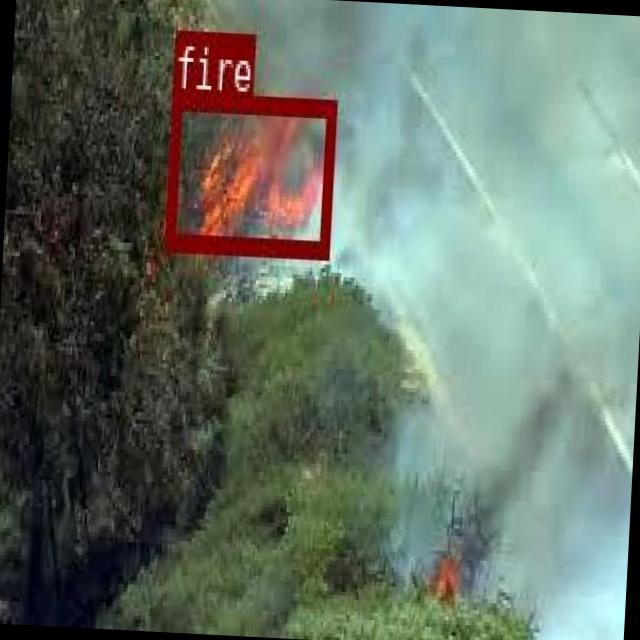fire: (164, 91, 336, 256)
